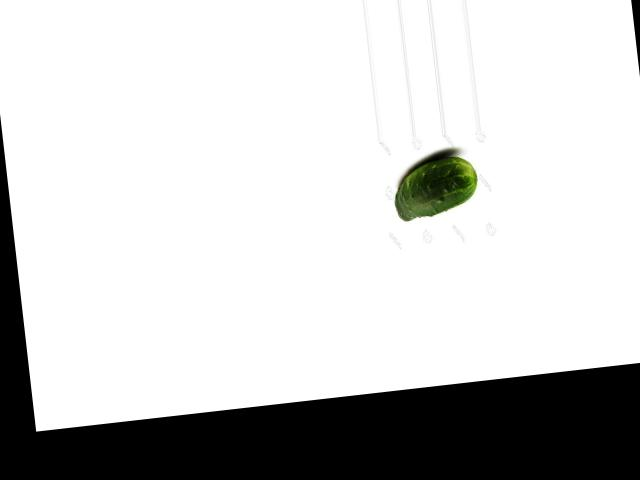cucumber: (390, 153, 481, 221)
